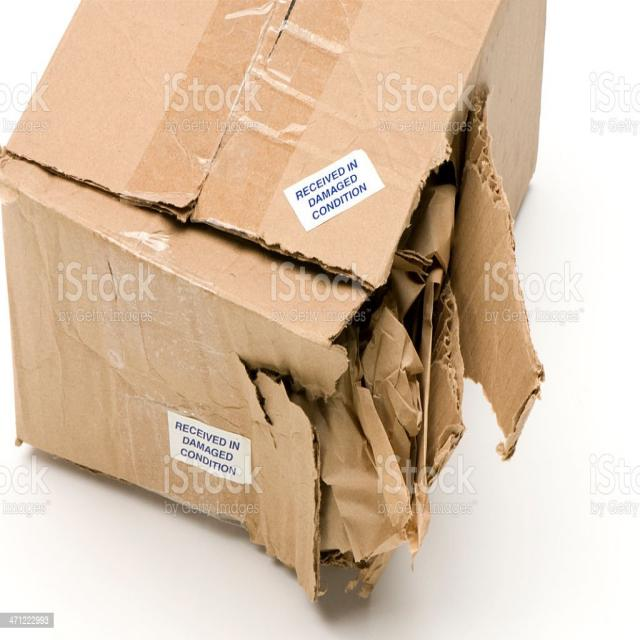leakage: (292, 127, 545, 568)
